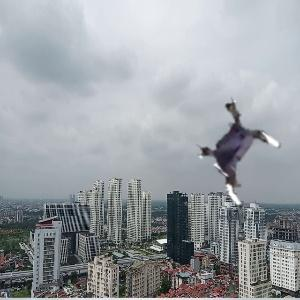drone: (188, 104, 286, 202)
